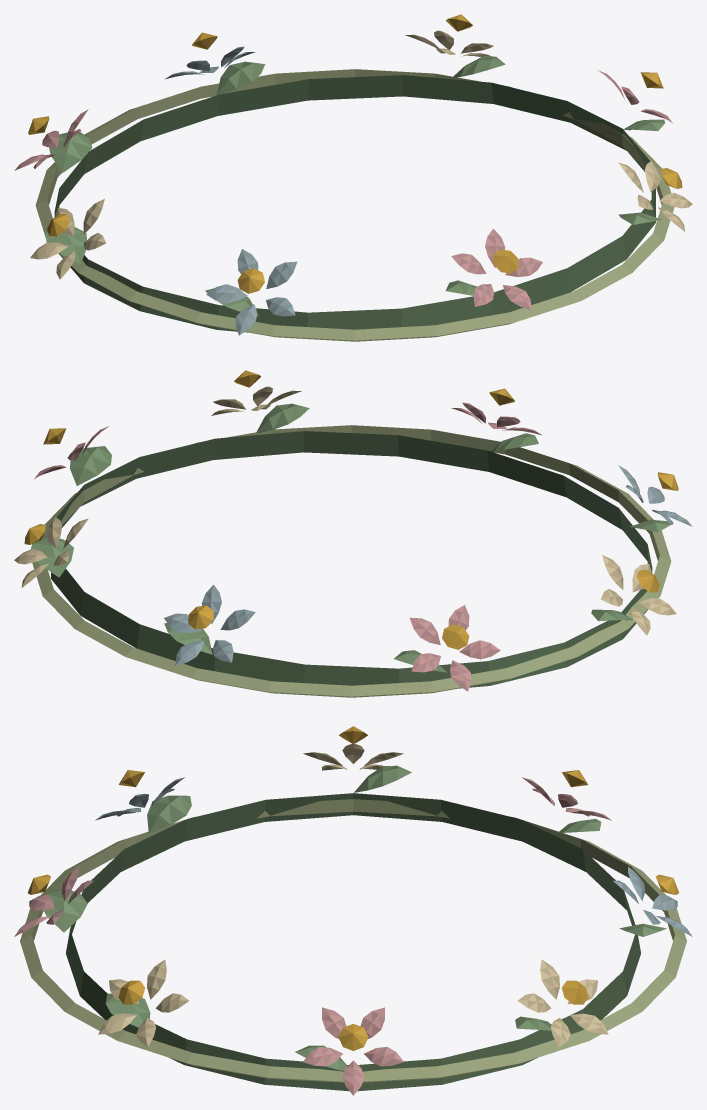
Rendered from hat_flower.glb.
3 renders of one model, top to bottom at view 1: azimuth 30°, elevation 25°; view 2: azimuth 150°, elevation 25°; view 3: azimuth 270°, elevation 25°, orthographic. The views are drawn at different scales.
Visible parts, largest first — view 1: hat_flower; view 2: hat_flower; view 3: hat_flower.
Part boxes in pixels (bbox=[...]): hat_flower: bbox=[14, 14, 692, 341]; hat_flower: bbox=[14, 370, 692, 697]; hat_flower: bbox=[14, 726, 692, 1095].
Bounding box in the file's own units: 0.5661 × 0.0685 × 0.5088.
